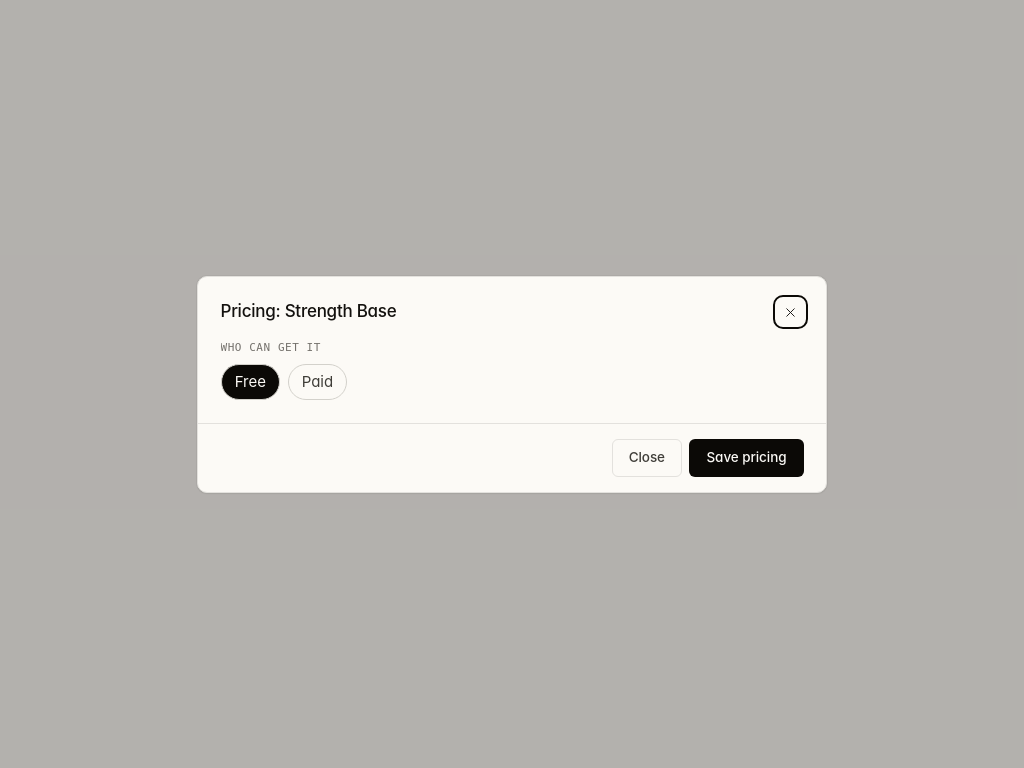
Test: ContentPricingModal › falls quiet when selling is not enabled for this workspace
The image size is (1024, 768).
Click the button "Paid".
click(318, 382)  # box [288, 364, 347, 400]
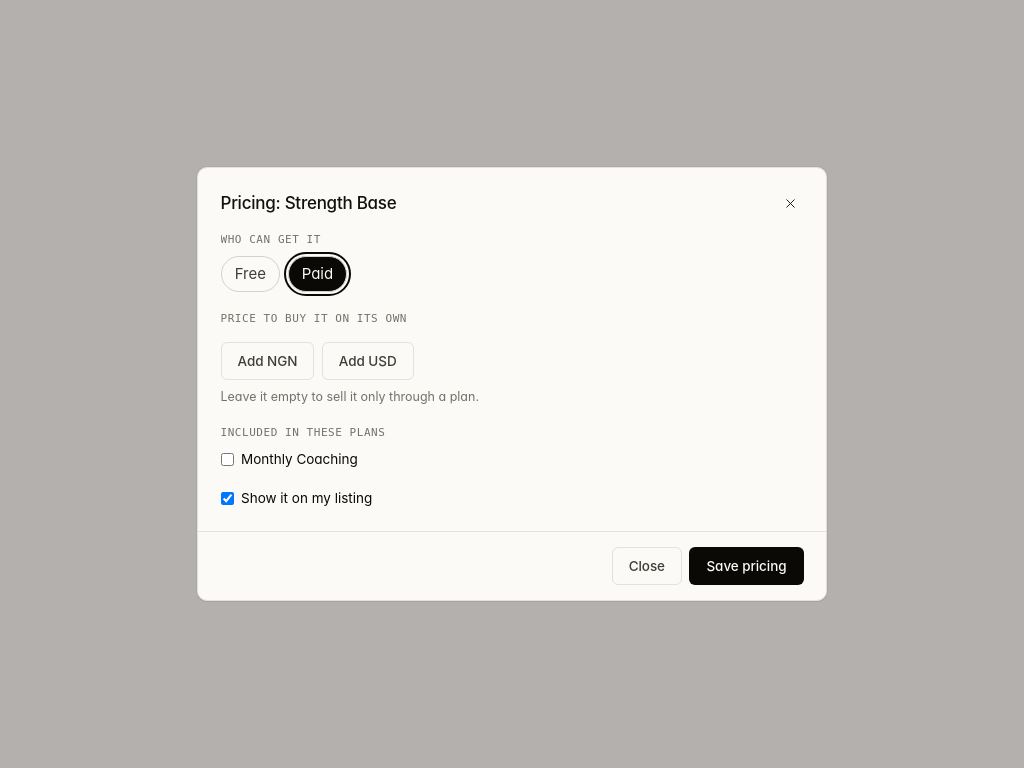
Click the button "Add NGN".
click(267, 361)  # box [220, 342, 314, 380]
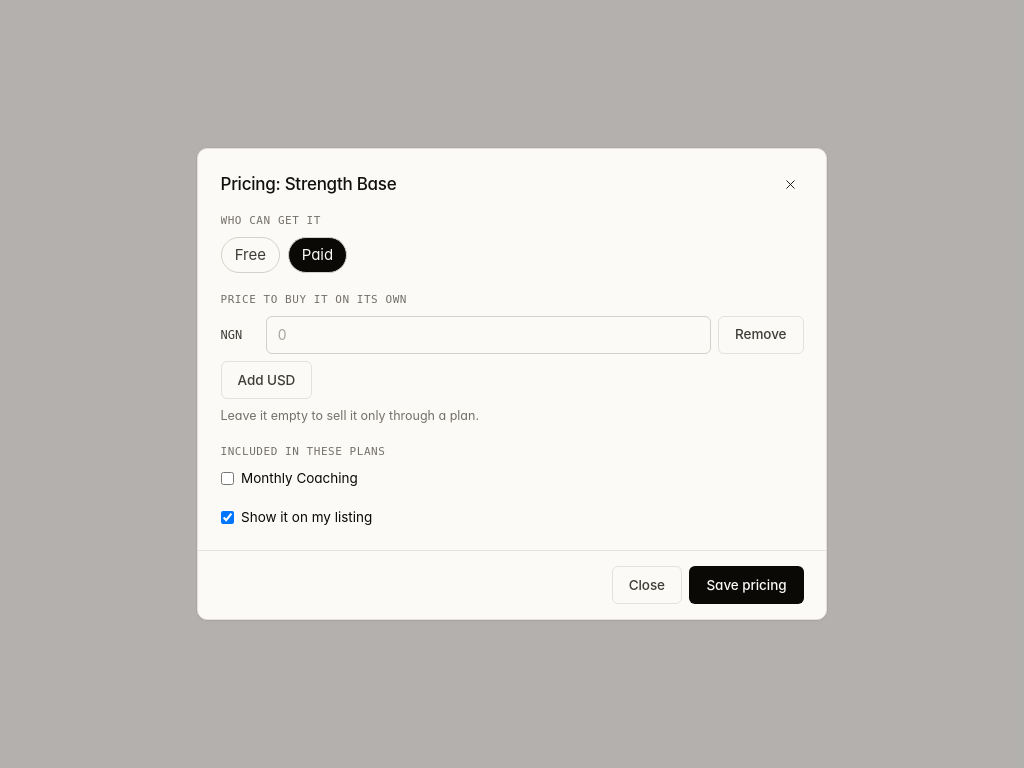
Type "100" into the field named "Price in NGN".
click(488, 334); type("100")  # box [266, 316, 711, 354]
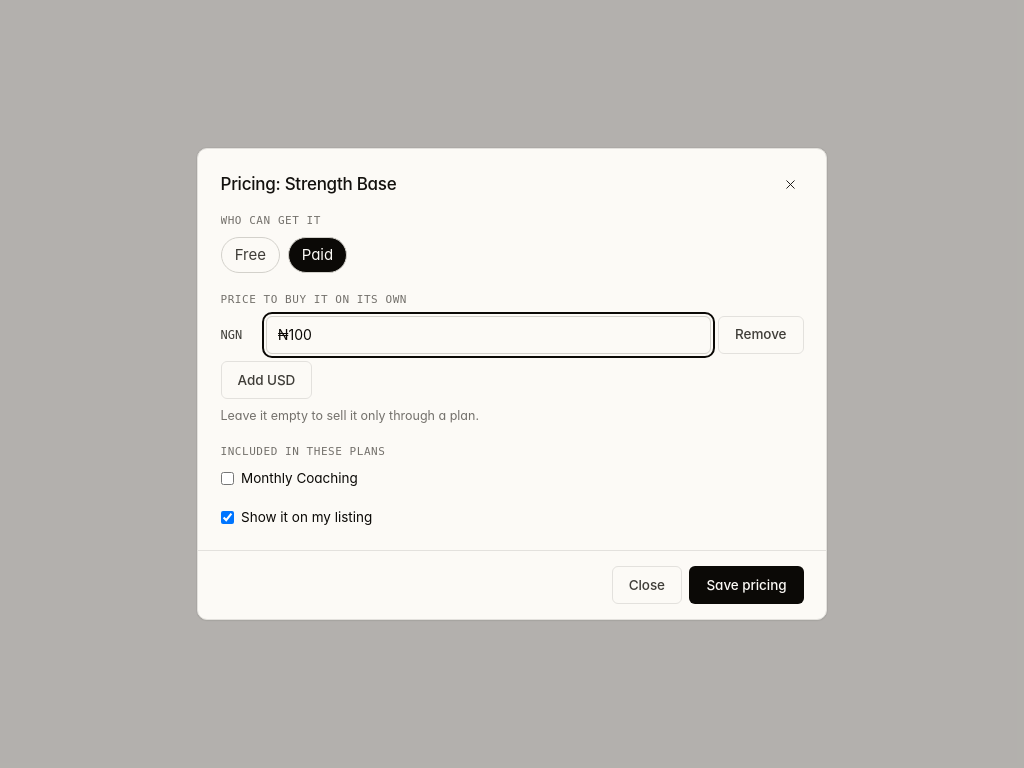
Click the button "Save pricing".
click(746, 585)  # box [690, 566, 804, 604]
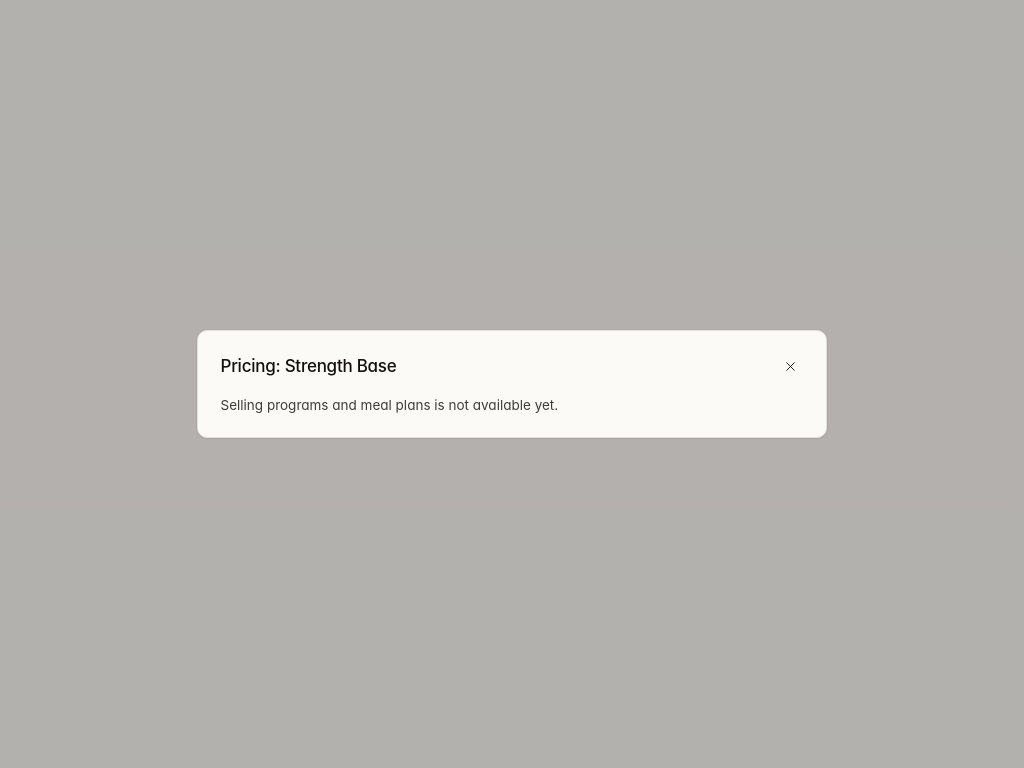
Now the text "Selling programs and meal plans is not available yet." is shown, box [220, 396, 558, 412]
